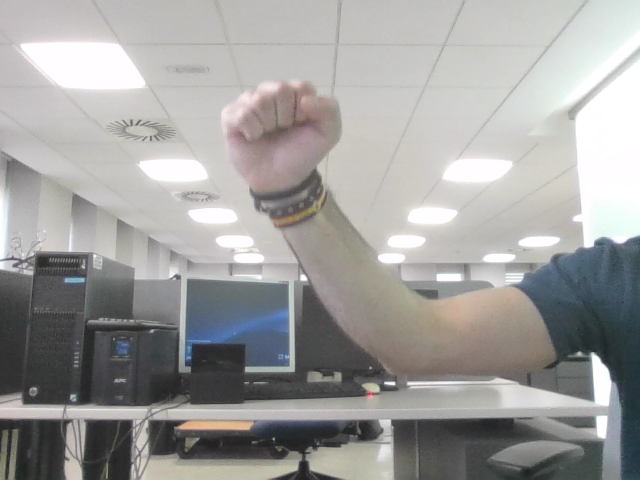Puño: (236, 89, 326, 163)
